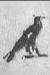G1: (5, 1, 46, 74)
